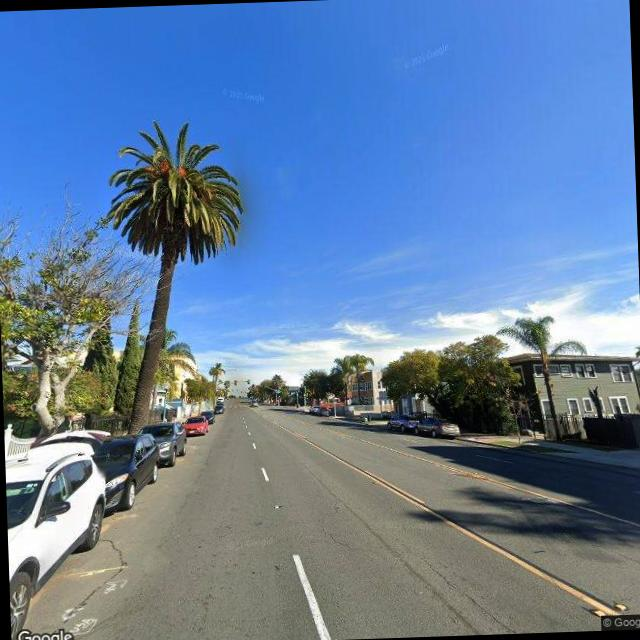pothole: (415, 552, 530, 636), (314, 512, 354, 552)
